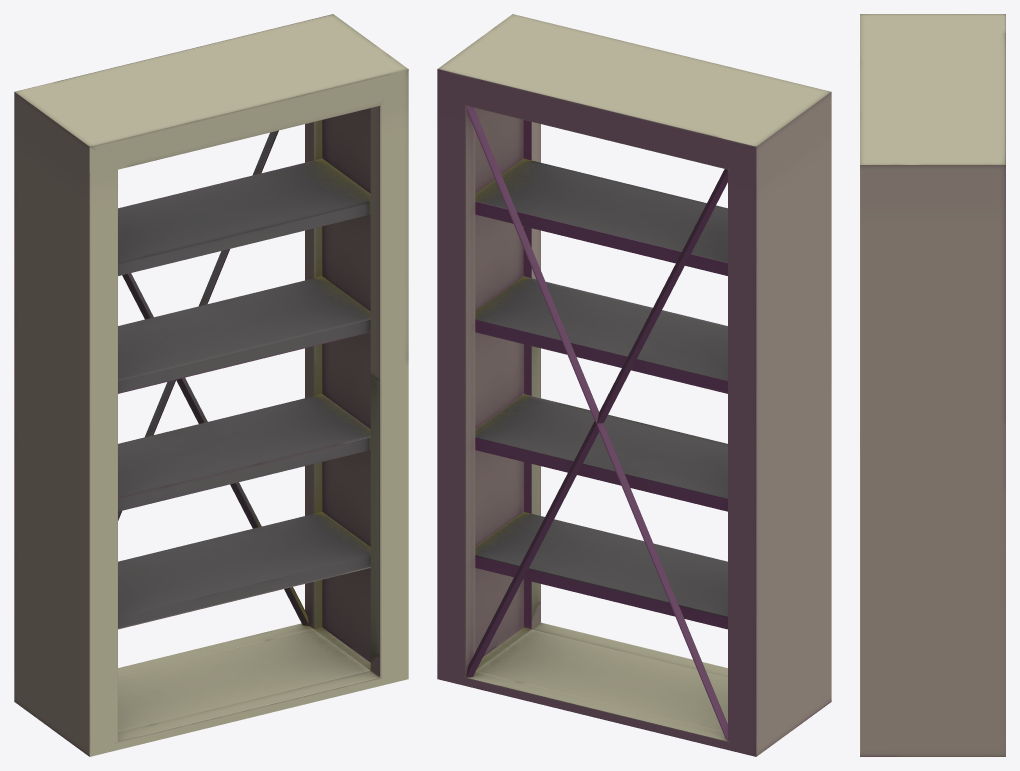
Rendered from Bookshelf.fbx.
3 views of the same model, side by side, from view 1: azimuth 30°, elevation 25°; view 2: azimuth 150°, elevation 25°; view 3: azimuth 270°, elevation 25° (orthographic). The views are drawn at different scales.
Parts seen in each view (by area): view 1: Bookshelf; view 2: Bookshelf; view 3: Bookshelf.
Part boxes in pixels (box(x1,y1,x2,y2)): Bookshelf: box(14, 14, 408, 756); Bookshelf: box(437, 14, 831, 756); Bookshelf: box(860, 14, 1005, 756).
Bounding box in the file's own units: 109 × 200 × 44.72.
